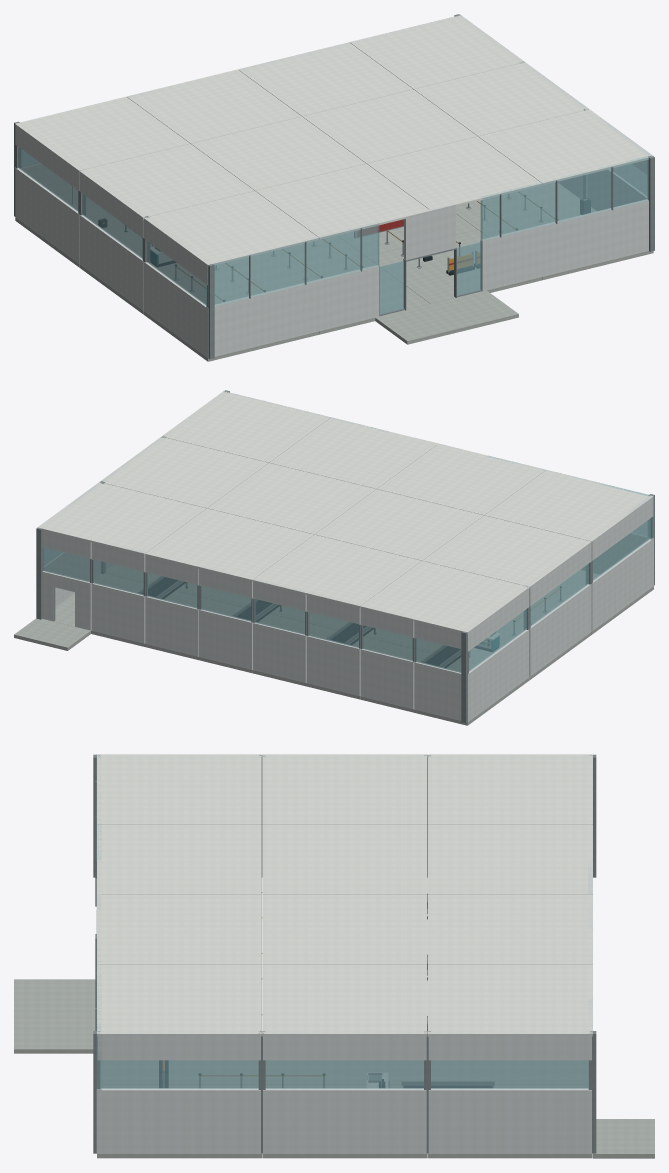
3 renders of one model, top to bottom at view 1: azimuth 30°, elevation 25°; view 2: azimuth 150°, elevation 25°; view 3: azimuth 270°, elevation 25°, orthographic. The views are drawn at different scales.
Parts seen in each view (by area): view 1: VIS_ceiling_batch, VIS_wall_batch, VIS_tile_batch, VIS_glass_batch, VIS_metal_batch, VIS_dark_batch; view 2: VIS_ceiling_batch, VIS_wall_batch, VIS_glass_batch, VIS_tile_batch, VIS_metal_batch, VIS_dark_batch; view 3: VIS_ceiling_batch, VIS_wall_batch, VIS_tile_batch, VIS_glass_batch, VIS_metal_batch.
Boxes of the visible parts, x1,y1,x2,y2 form: VIS_ceiling_batch: (15, 15, 648, 266); VIS_wall_batch: (15, 15, 652, 357); VIS_tile_batch: (15, 183, 653, 361); VIS_glass_batch: (17, 147, 648, 314); VIS_metal_batch: (14, 14, 654, 359); VIS_dark_batch: (98, 195, 590, 301); VIS_ceiling_batch: (38, 391, 648, 633); VIS_wall_batch: (38, 392, 653, 721); VIS_glass_batch: (43, 391, 653, 672); VIS_tile_batch: (14, 565, 653, 725); VIS_metal_batch: (36, 390, 654, 723); VIS_dark_batch: (143, 577, 561, 667); VIS_ceiling_batch: (97, 754, 592, 1036); VIS_wall_batch: (96, 754, 592, 1153); VIS_tile_batch: (14, 878, 654, 1158); VIS_glass_batch: (96, 754, 588, 1089); VIS_metal_batch: (93, 754, 596, 1153).
Bounding box in the file's own units: 32 × 6.64 × 31.
Materials: 12 (12 with a texture image).
